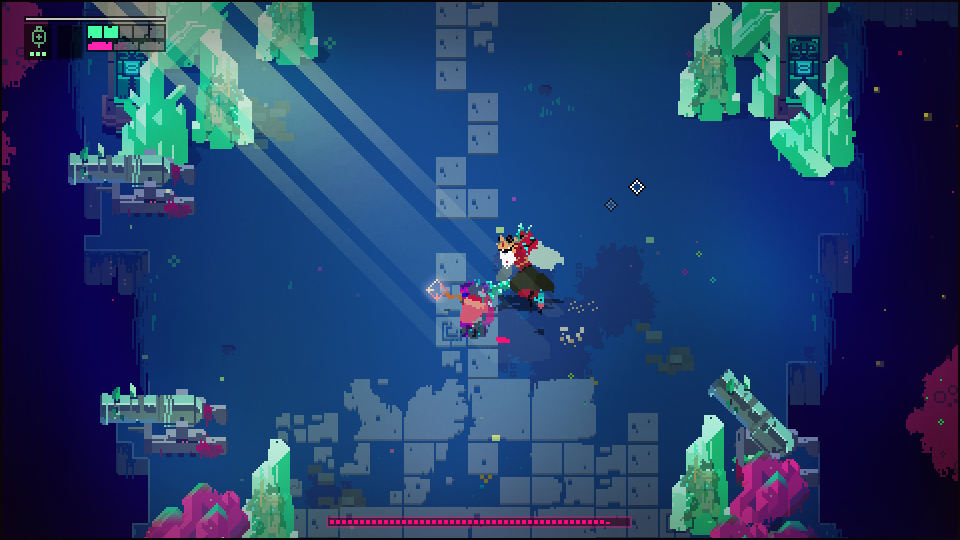hanged_man: (466, 225, 563, 319)
player: (462, 289, 485, 340)
